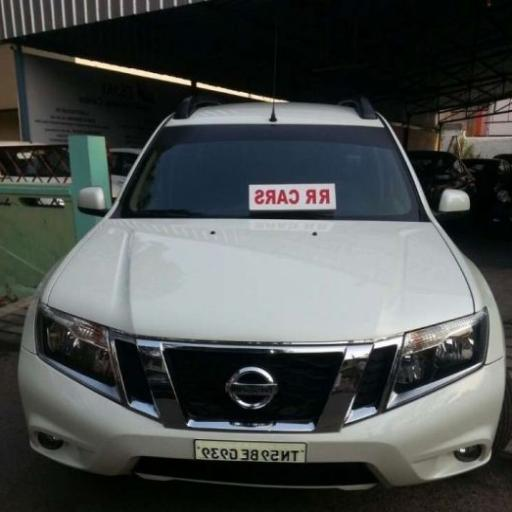License: (195, 438, 308, 461)
